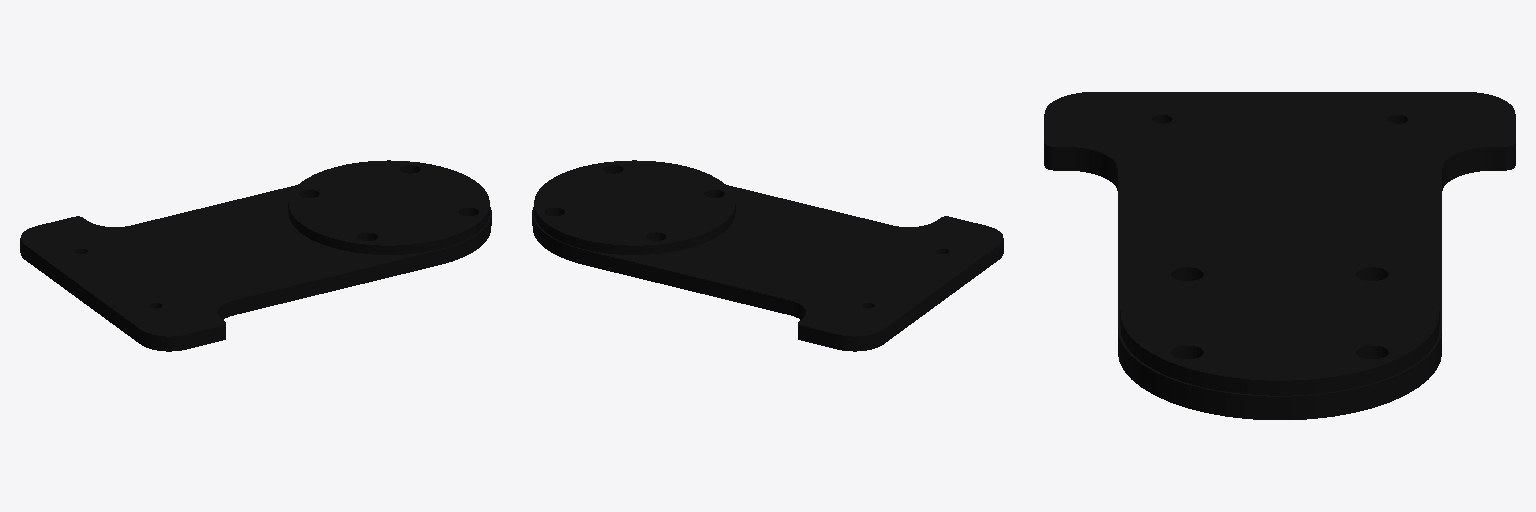
URDF robot description (halterung):
<?xml version="1.0" encoding="utf-8"?>

<robot name="halterung">

  <link name="kamerahalterung">
    <inertial>
      <origin
        xyz="-0.038021 7.5933E-19 0.0031873"
        rpy="0 0 0" />
      <mass
        value="0.05" />
      <inertia
        ixx="1.9359E-05"
        ixy="2.4161E-21"
        ixz="-1.3664E-06"
        iyy="8.4124E-05"
        iyz="1.1107E-22"
        izz="0.00010304" />
    </inertial>
    <visual>
      <origin
        xyz="0 0 0"
        rpy="0 0 0" />
      <geometry>
        <mesh
          filename="package://gripper_2F_85_description/meshes/kamerahalterung.STL" />
      </geometry>
      <material
        name="">
        <color
          rgba="0.1 0.1 0.1 1" />
      </material>
    </visual>
    <collision>
      <origin
        xyz="0 0 0"
        rpy="0 0 0" />
      <geometry>
        <mesh
          filename="package://gripper_2F_85_description/meshes/kamerahalterung.STL" />
      </geometry>
    </collision>
  </link>
  
  <link name="Kamera_Basis_KS"/>
  <joint name="fixed_link_to_Kamera" type="fixed">
    <origin rpy="0 0 0" xyz="-0.0945 0 0.005" />
    <parent link="kamerahalterung"/>
    <child link="Kamera_Basis_KS"/>
  </joint>
  
</robot>

--- What the picture shows (computed from the rendered views, not written in the file) ---
Views: 3 orthographic renders of the robot side by side, from view 1: azimuth 30°, elevation 25°; view 2: azimuth 150°, elevation 25°; view 3: azimuth 270°, elevation 25°.
Model halterung with 2 links and 1 joints (1 fixed), rooted at kamerahalterung, posed every joint at zero.
Links seen in each view (by area): view 1: kamerahalterung; view 2: kamerahalterung; view 3: kamerahalterung.
Link boxes in pixels (box(x1,y1,x2,y2)): kamerahalterung: box(20, 160, 491, 351); kamerahalterung: box(532, 160, 1003, 351); kamerahalterung: box(1044, 92, 1515, 419).
Size in the robot's own frame: 0.1379 by 0.09 by 0.0082 metres.
Meshes: 1 distinct files referenced, 1 mesh visuals loaded (1 binary STL).